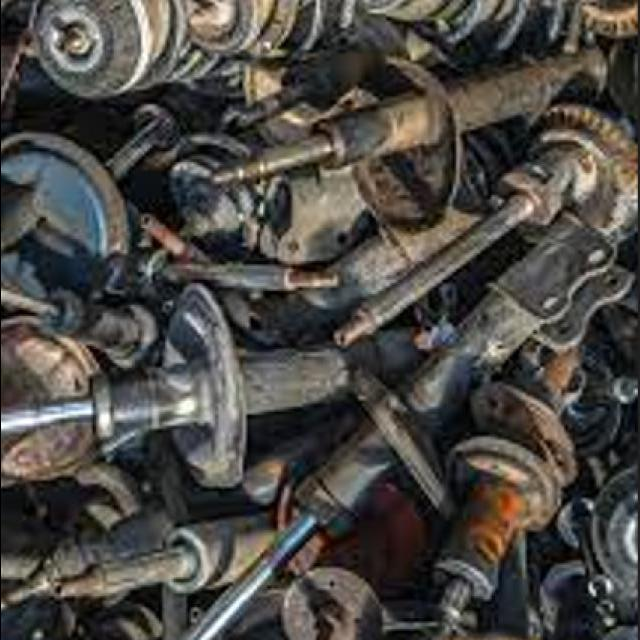shock absorber: (186, 210, 636, 638), (208, 43, 606, 186), (3, 334, 380, 438)
